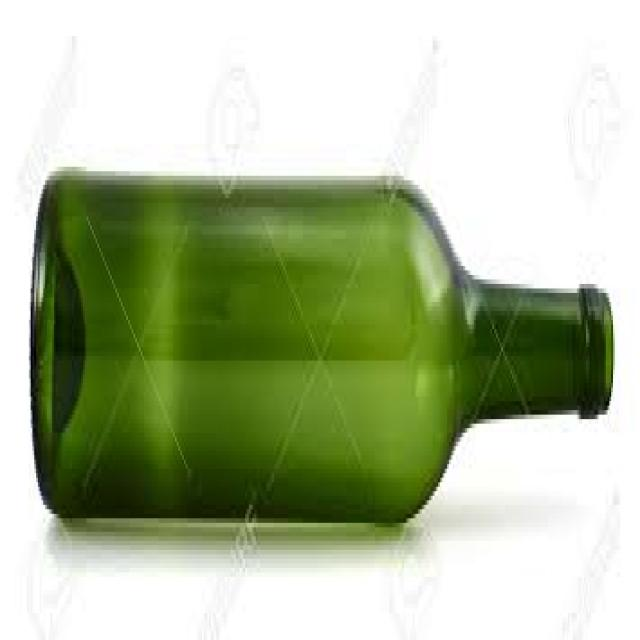Glass: (26, 155, 614, 535)
